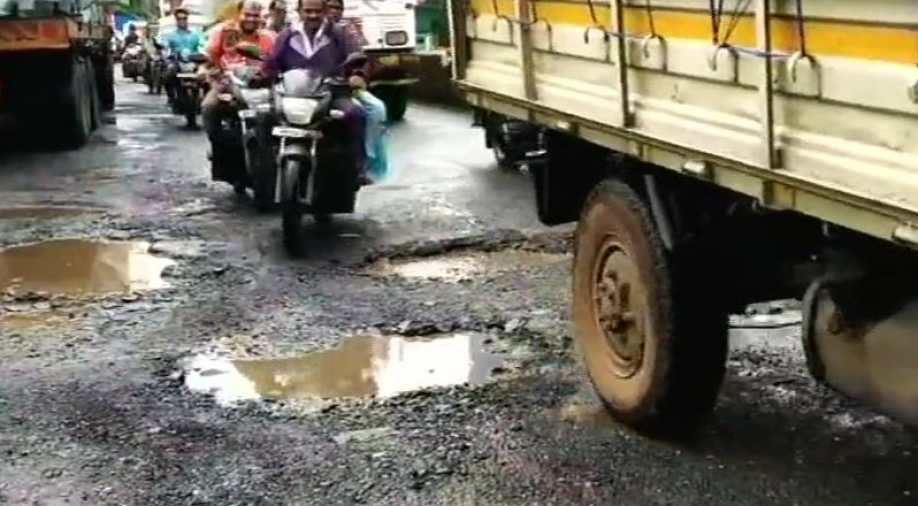pothole: (151, 282, 555, 426)
